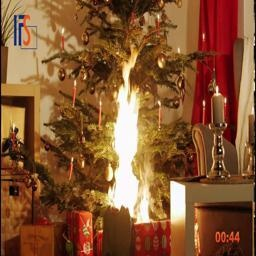fire: (103, 48, 158, 228)
